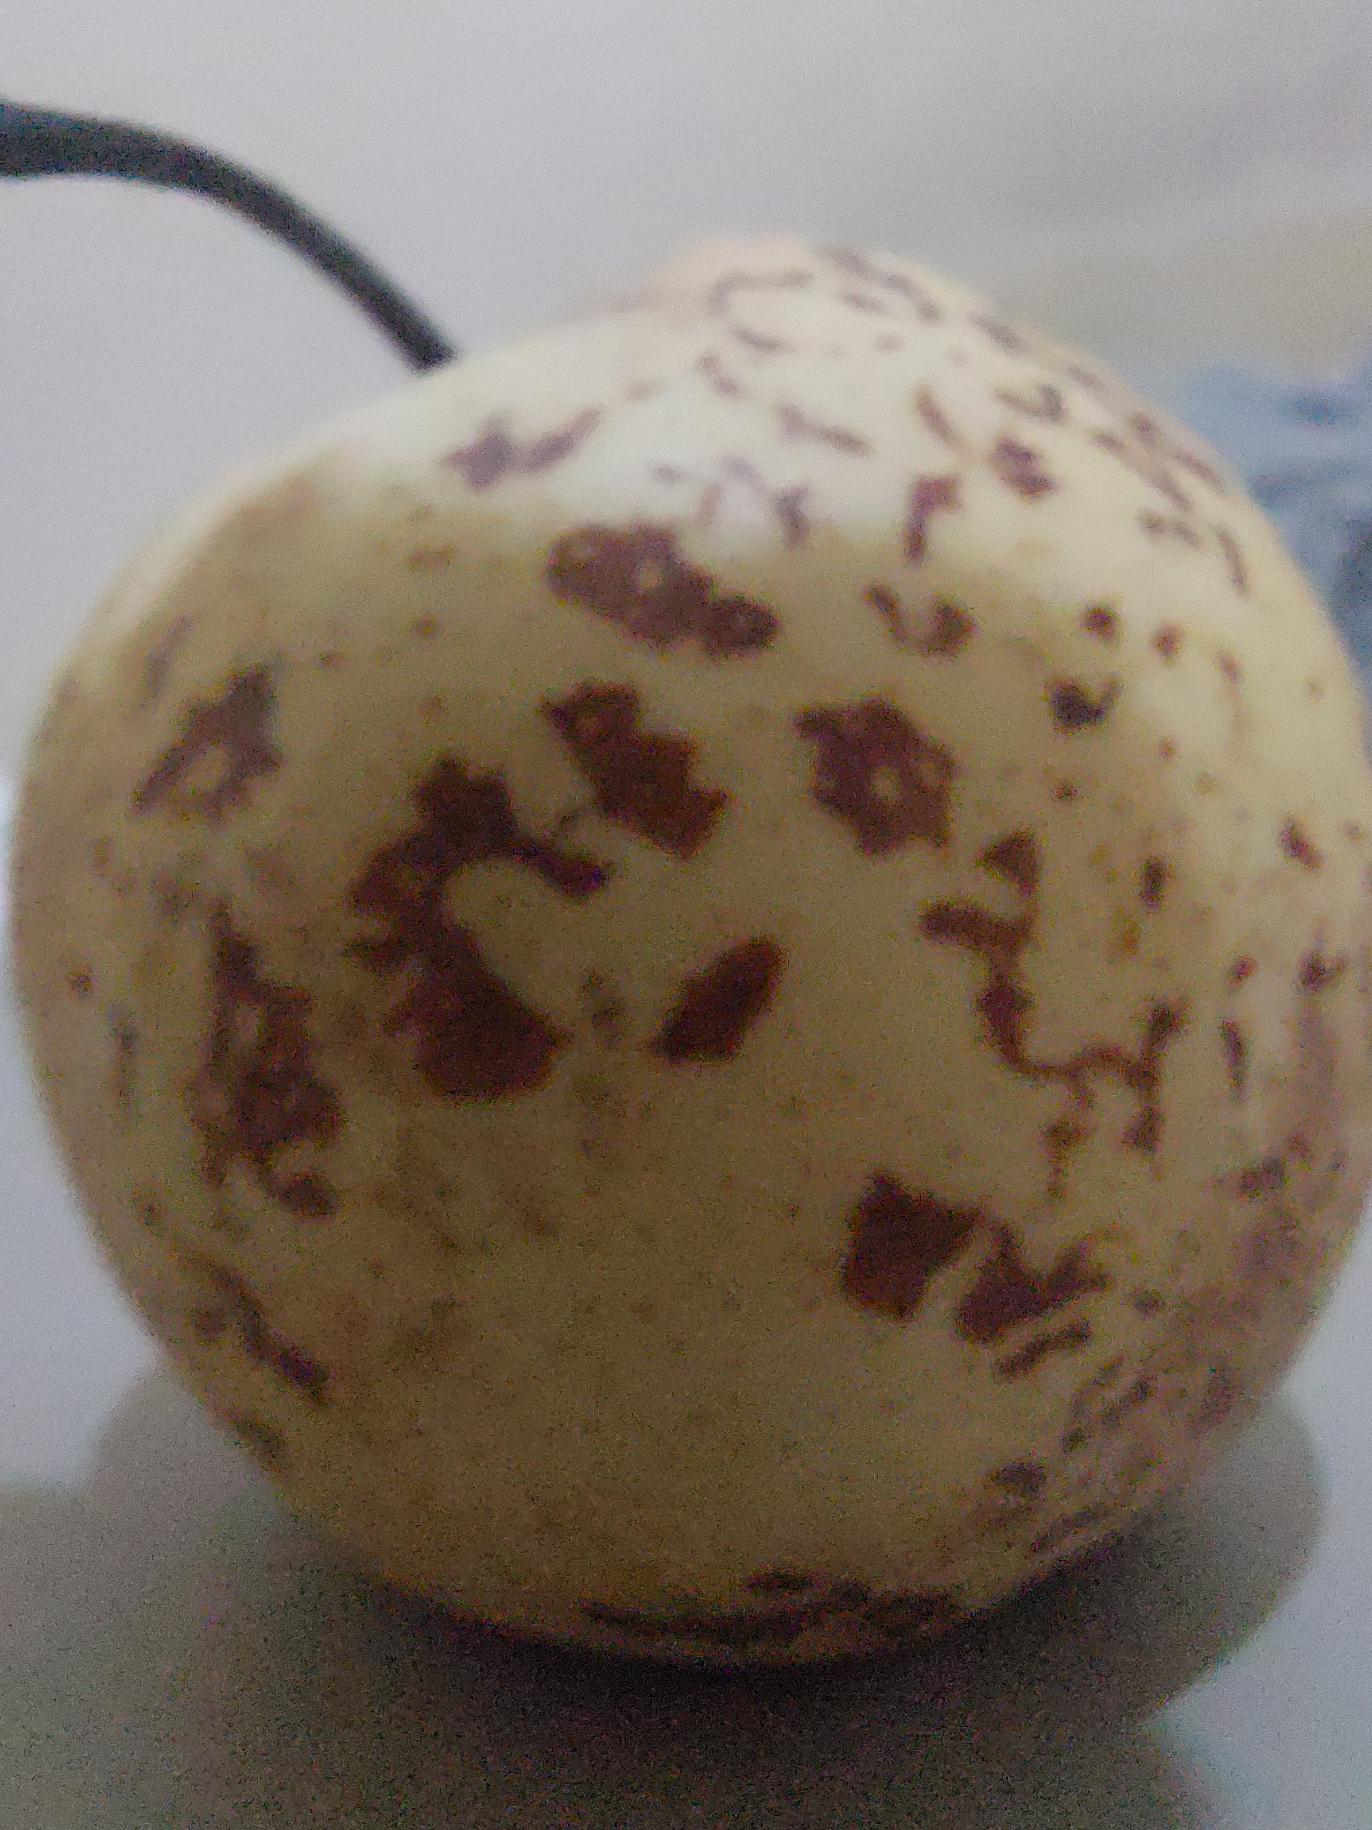Bad Pear: (0, 223, 1372, 1705)
